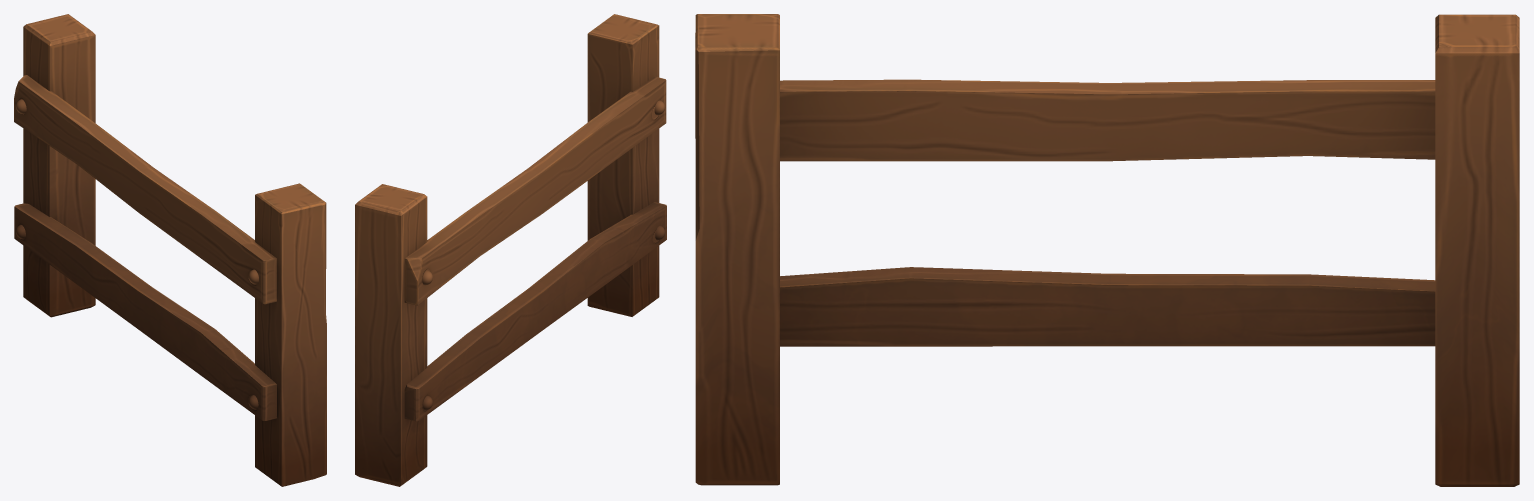
Rendered from stylized_fence.glb.
3 renders of one model, left to right at view 1: azimuth 30°, elevation 25°; view 2: azimuth 150°, elevation 25°; view 3: azimuth 270°, elevation 25°, orthographic. The views are drawn at different scales.
Parts seen in each view (by area): view 1: bois horizontale_low; view 2: bois horizontale_low; view 3: bois horizontale_low.
Boxes of the visible parts, left/top/right/bottom form: bois horizontale_low: left=14, top=14, right=326, bottom=486; bois horizontale_low: left=355, top=14, right=666, bottom=486; bois horizontale_low: left=695, top=14, right=1519, bottom=486.
Bounding box in the file's own units: 0.2433 × 0.9941 × 1.69.
Materials: 1 (1 with a texture image).
